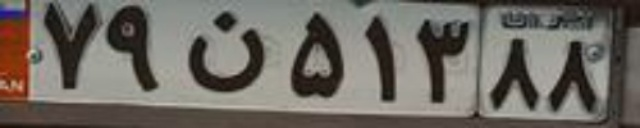1: (362, 15, 396, 101)
3: (415, 19, 471, 103)
5: (288, 12, 346, 98)
7: (41, 0, 100, 88)
8: (546, 40, 597, 113), (490, 38, 538, 111)
9: (103, 2, 158, 91)
non: (185, 11, 266, 92)
